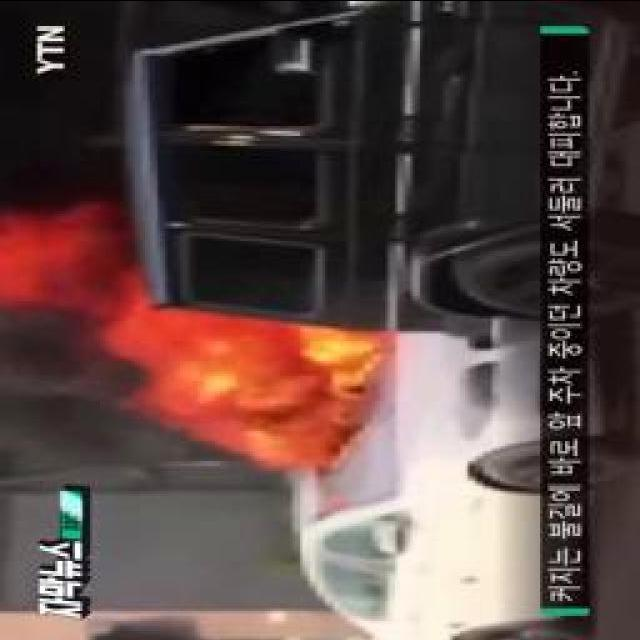Fire: (88, 302, 388, 443)
